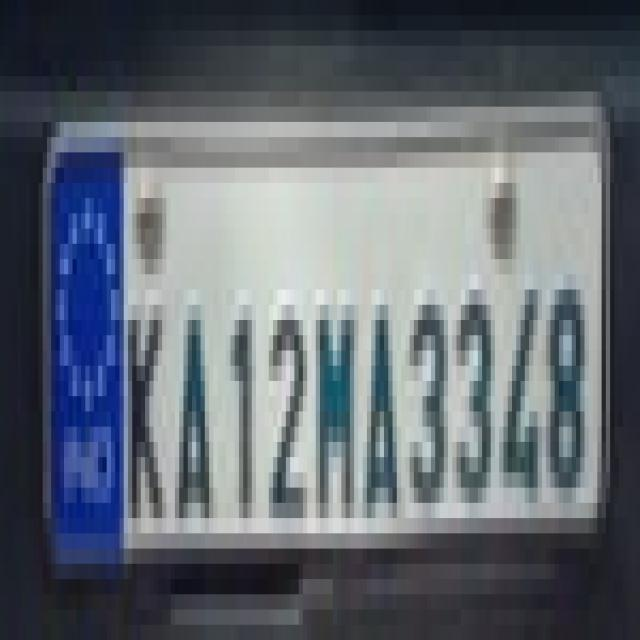1: (225, 274, 258, 542)
3: (404, 284, 450, 526), (454, 280, 496, 525)
4: (502, 268, 545, 518)
8: (549, 273, 588, 503)
A: (172, 287, 214, 530), (364, 280, 399, 527)
K: (125, 274, 169, 538)
M: (313, 282, 357, 523)
